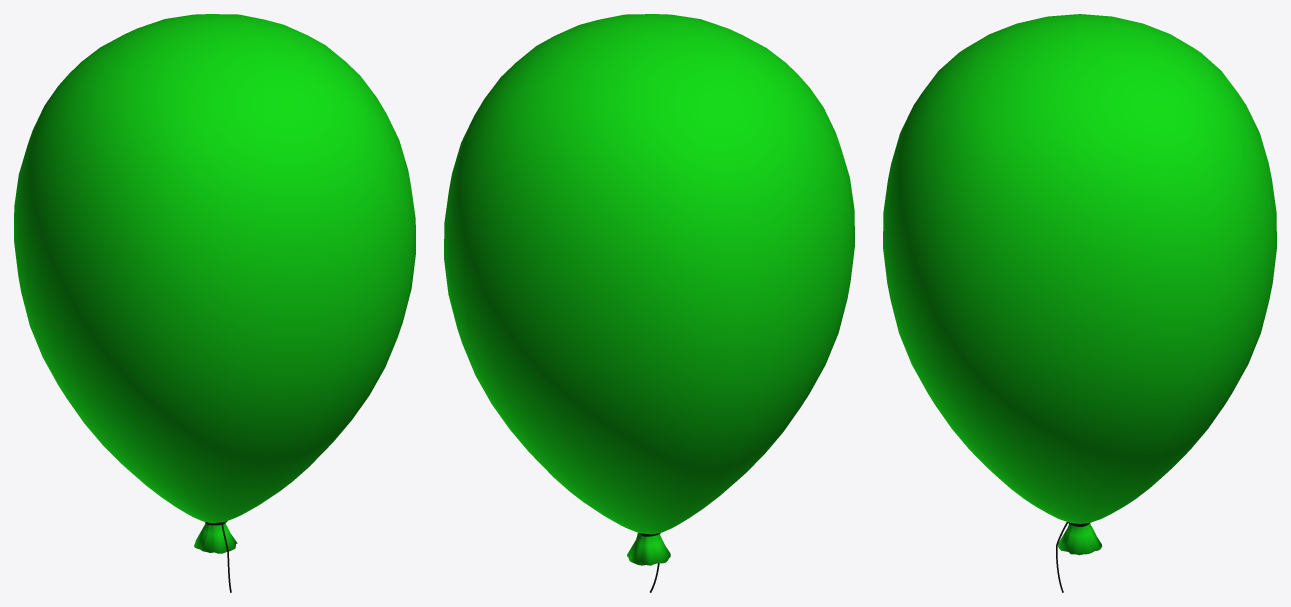
File: GloboVerde.obj
3 views of the same model, side by side, from view 1: azimuth 30°, elevation 25°; view 2: azimuth 150°, elevation 25°; view 3: azimuth 270°, elevation 25° (orthographic). The views are drawn at different scales.
Parts seen in each view (by area): view 1: Cube.003, Cylinder.006; view 2: Cube.003, Cylinder.006; view 3: Cube.003, Cylinder.006.
Boxes of the visible parts, x1,y1,x2,y2 form: Cube.003: (14,14,415,522); Cylinder.006: (194,523,237,553); Cube.003: (444,14,854,534); Cylinder.006: (627,533,670,565); Cube.003: (883,14,1276,523); Cylinder.006: (1058,523,1101,555).
Size of the model in its own units: 2.13 by 3.32 by 2.13.
